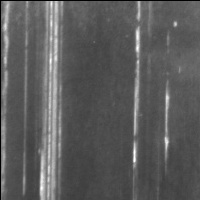scratches: (37, 1, 68, 200), (127, 1, 145, 175), (159, 76, 175, 169)
